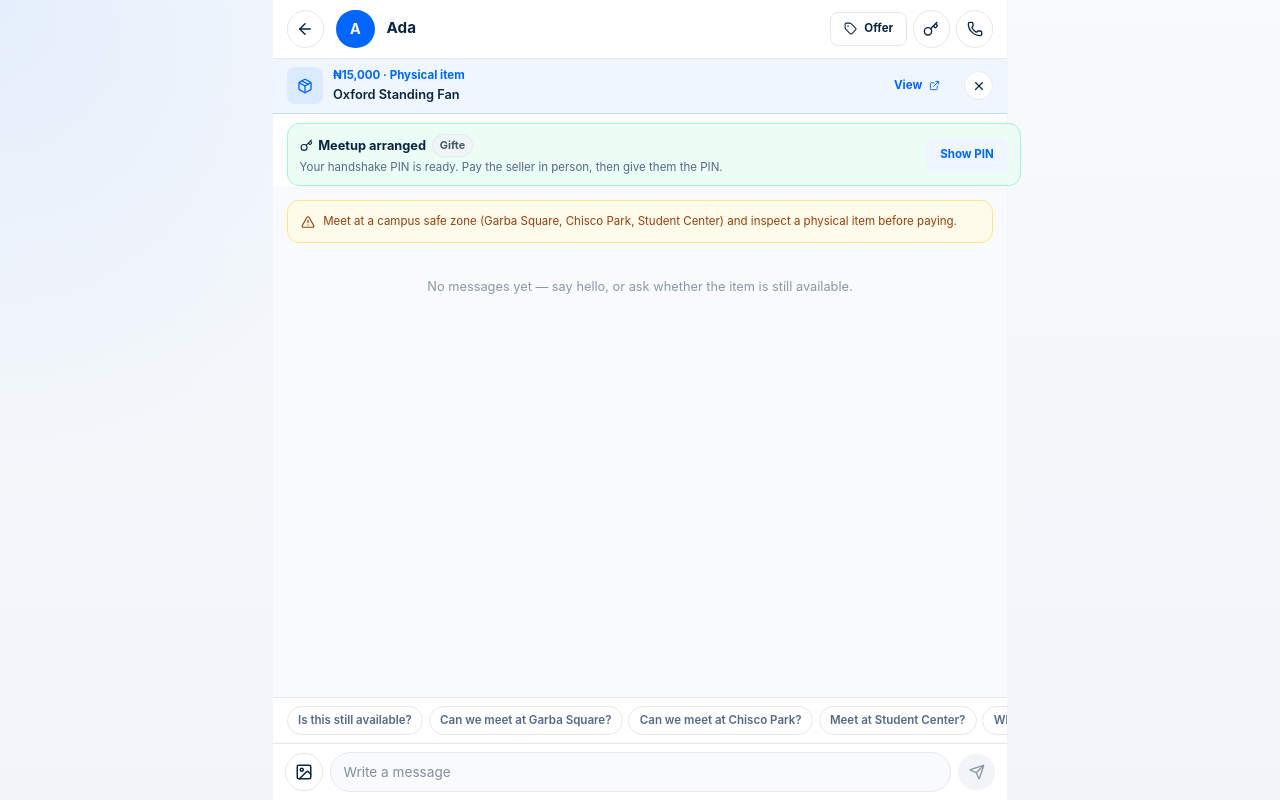
Campus handshake › shows this thread’s meetup, not somebody else’s
This screenshot has width=1280, height=800.
Click the button named "show pin".
click(372, 145)  # box x1=287 y1=123 x2=1021 y2=186
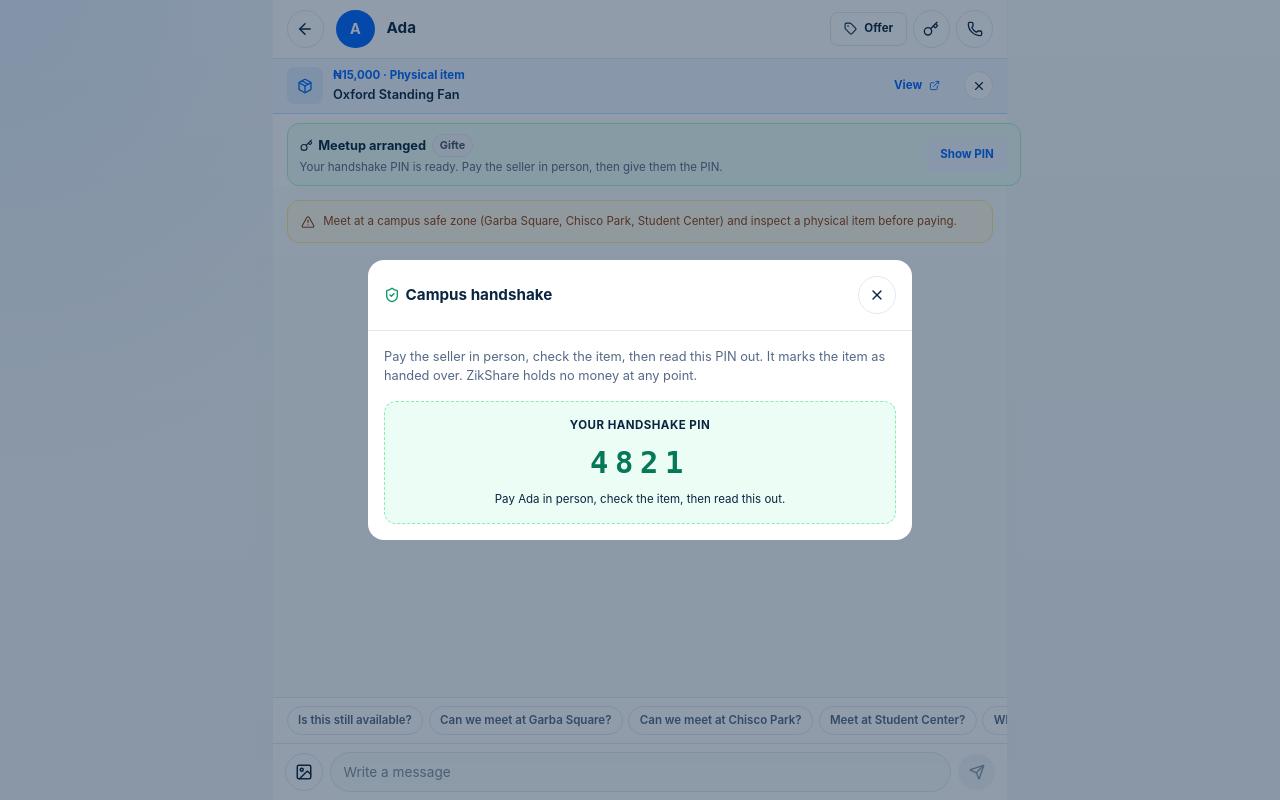
Check: the text "4821" is shown, box x1=590 y1=445 x2=690 y2=480
